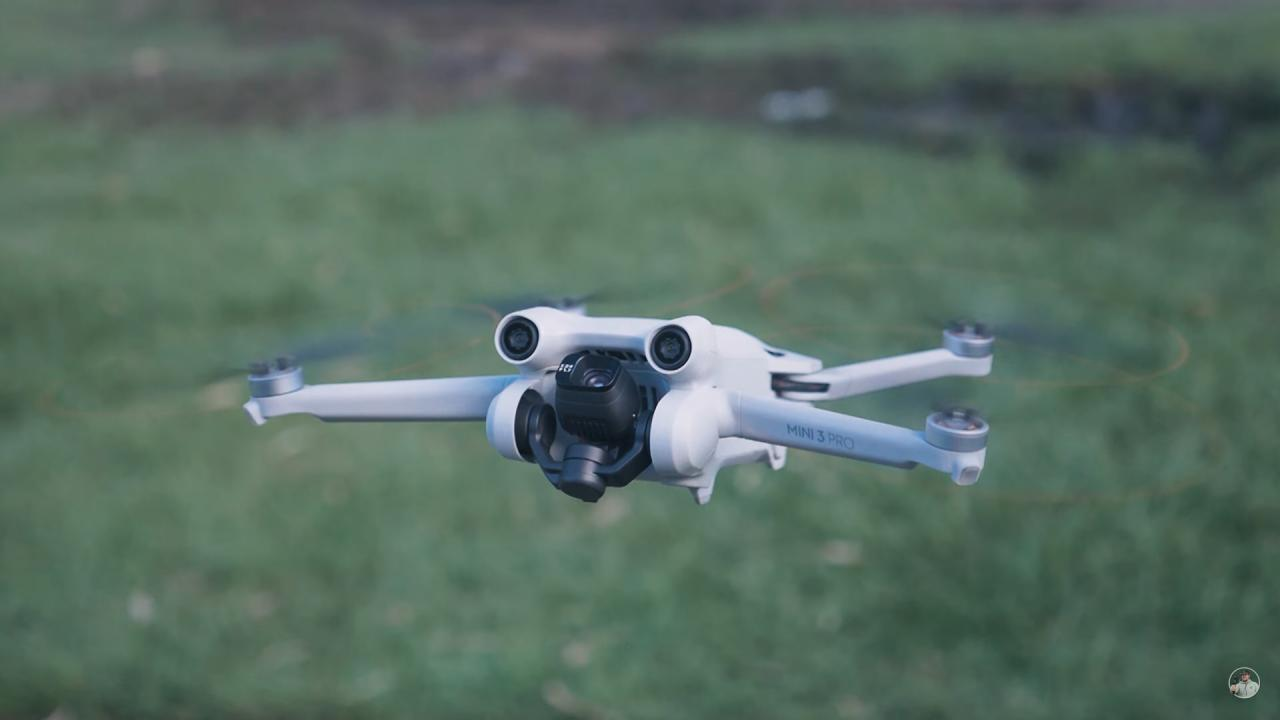Drone: (112, 248, 1181, 548)
